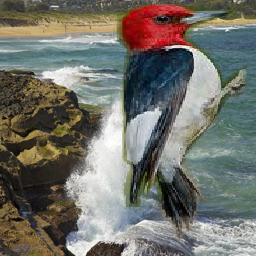Woodpecker: (110, 4, 256, 240)
